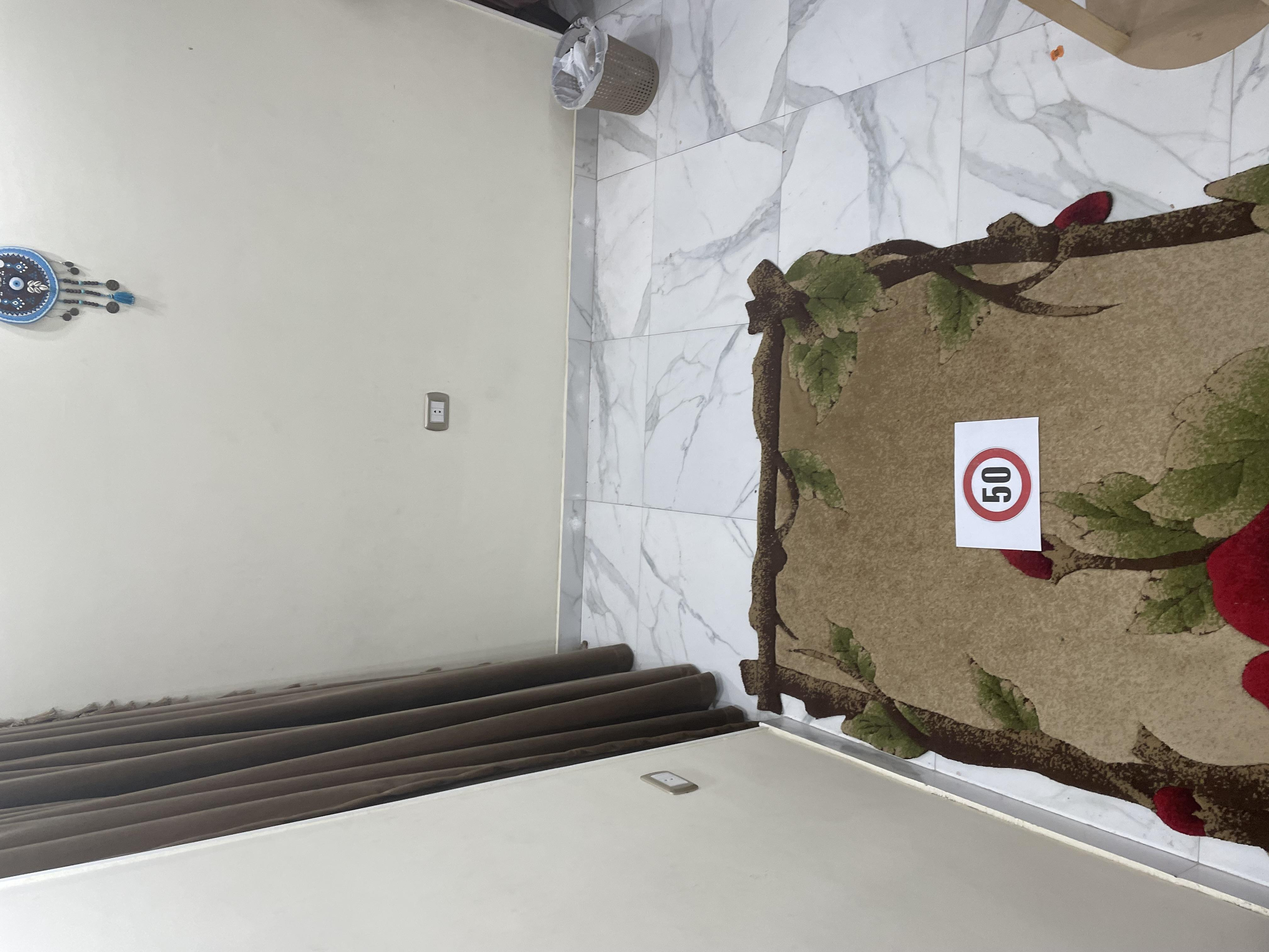50-Speed: (570, 718, 675, 776)
